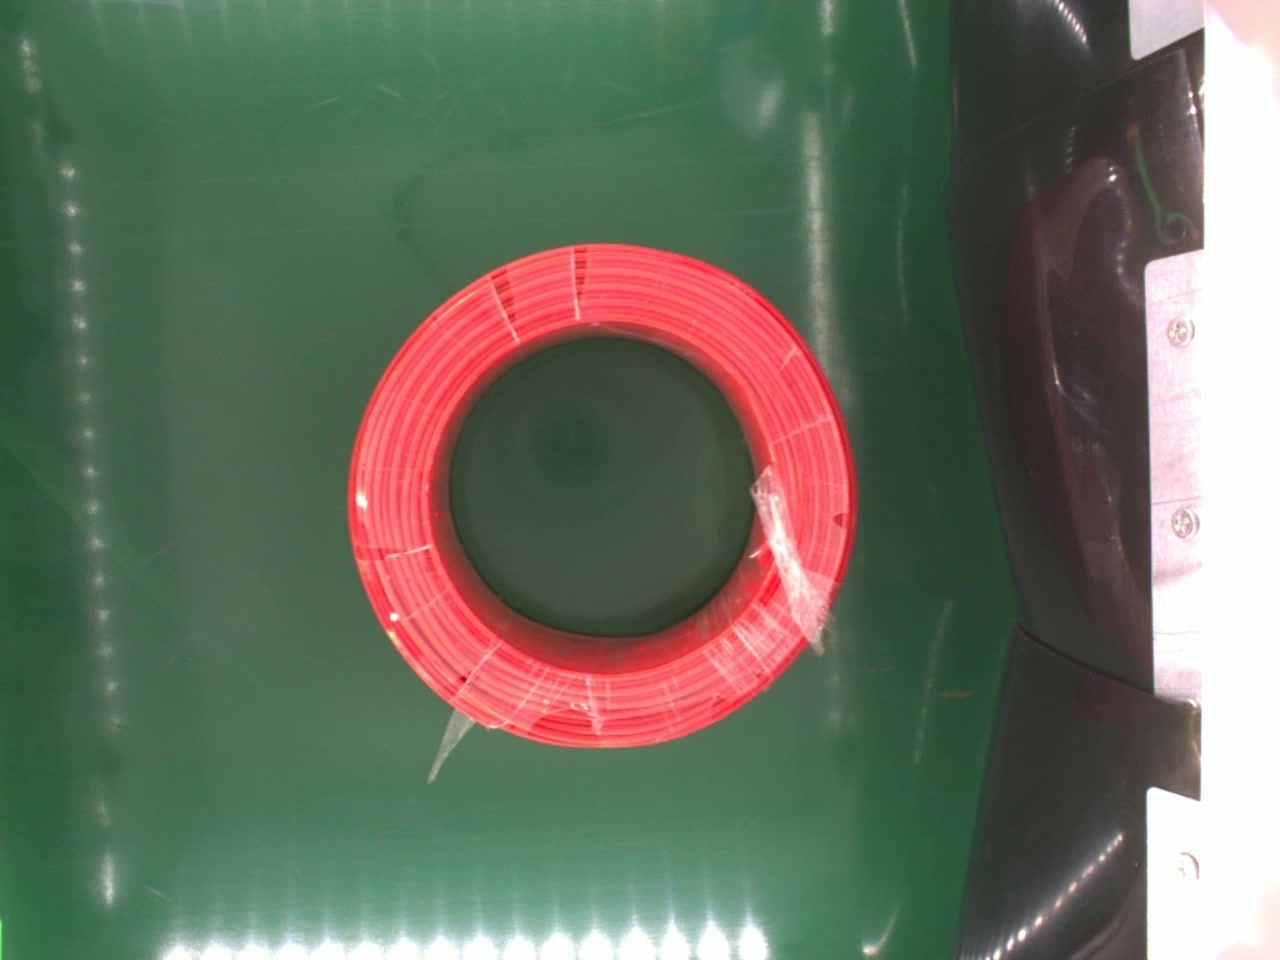red: (345, 243, 858, 751)
